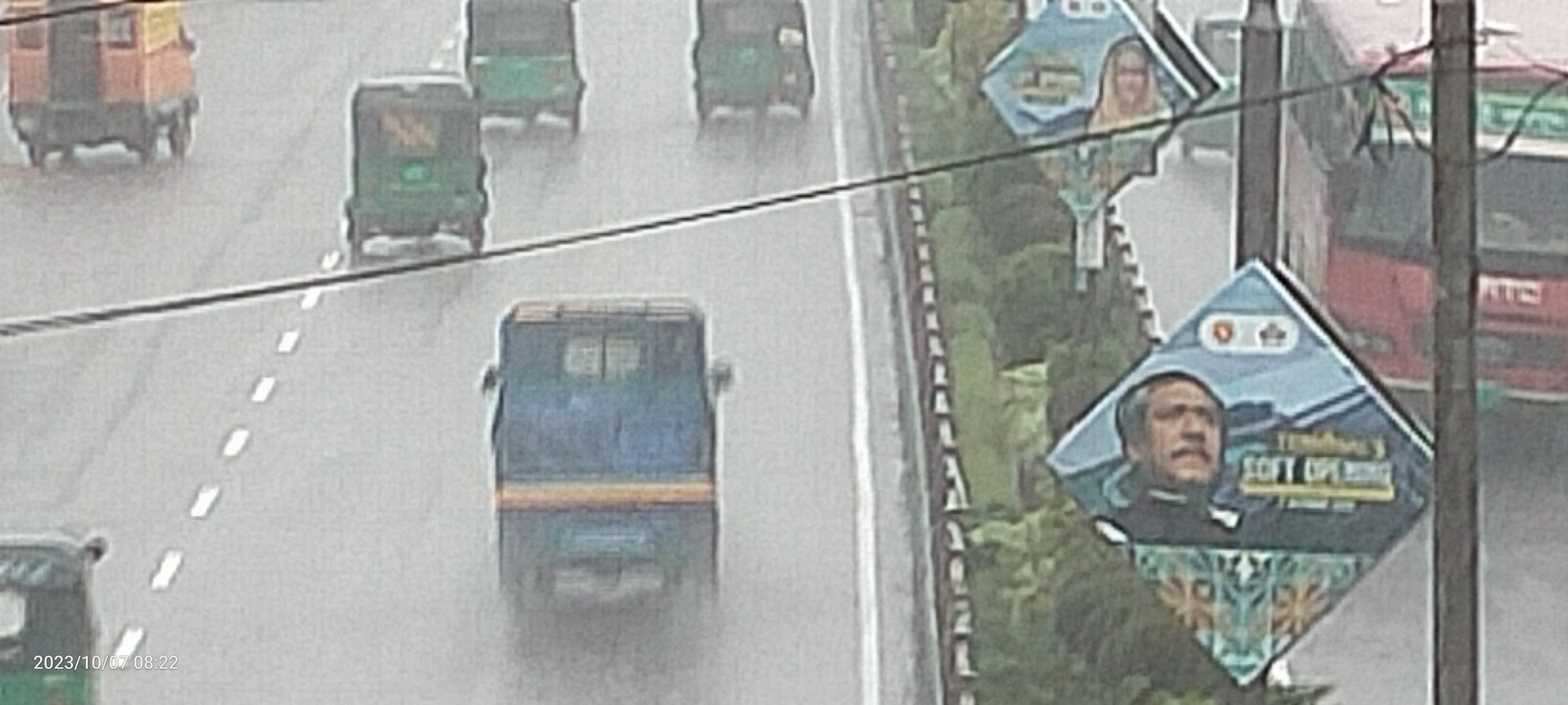Bus: (1267, 0, 1568, 428)
Car: (0, 0, 259, 193)
Truck: (452, 263, 789, 691)
